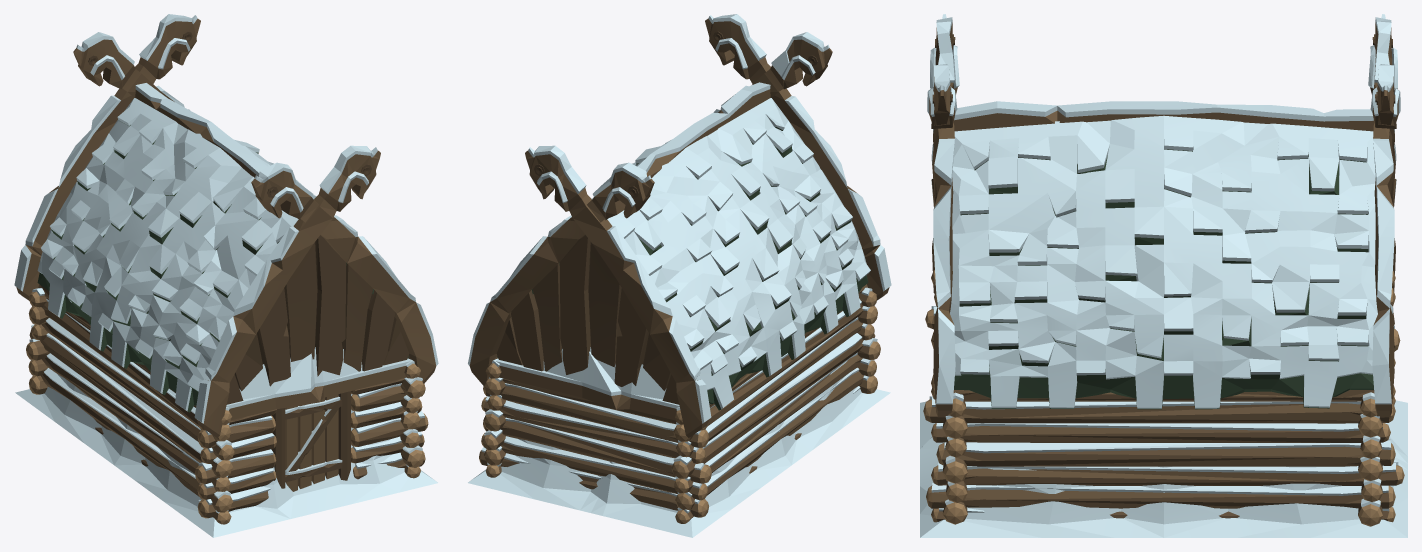
File: Casa_Larga01.glb
3 renders of one model, left to right at view 1: azimuth 30°, elevation 25°; view 2: azimuth 150°, elevation 25°; view 3: azimuth 270°, elevation 25°, orthographic. The views are drawn at different scales.
Visible parts, largest first — view 1: SM_Bld_Roof_02_Snow, SM_Bld_Base_Long_Door_01_Snow; view 2: SM_Bld_Roof_02_Snow, SM_Bld_Base_Long_Door_01_Snow; view 3: SM_Bld_Roof_02_Snow, SM_Bld_Base_Long_Door_01_Snow.
Boxes of the visible parts, <box> form: SM_Bld_Roof_02_Snow: <box>14,14,438,437</box>; SM_Bld_Base_Long_Door_01_Snow: <box>15,284,437,537</box>; SM_Bld_Roof_02_Snow: <box>468,14,891,437</box>; SM_Bld_Base_Long_Door_01_Snow: <box>468,284,890,537</box>; SM_Bld_Roof_02_Snow: <box>927,14,1400,417</box>; SM_Bld_Base_Long_Door_01_Snow: <box>920,270,1407,537</box>.
Size of the model in its own units: 5.16 by 7.17 by 7.43.
2 materials, 2 textured.
